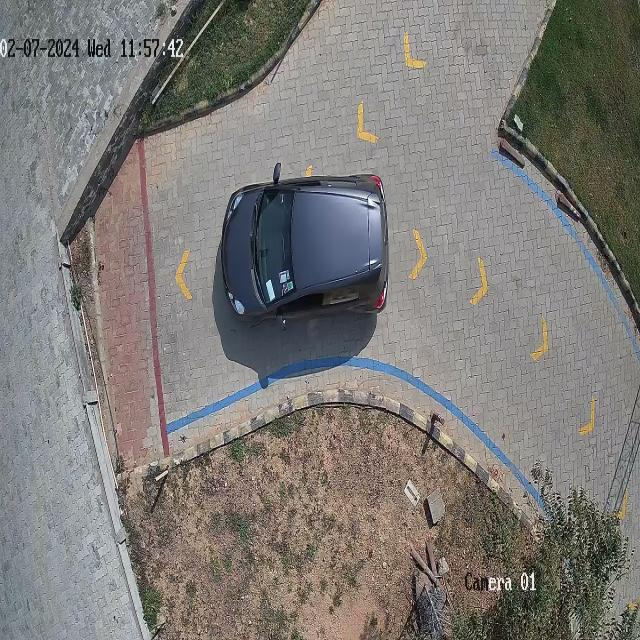car: (221, 162, 389, 322)
